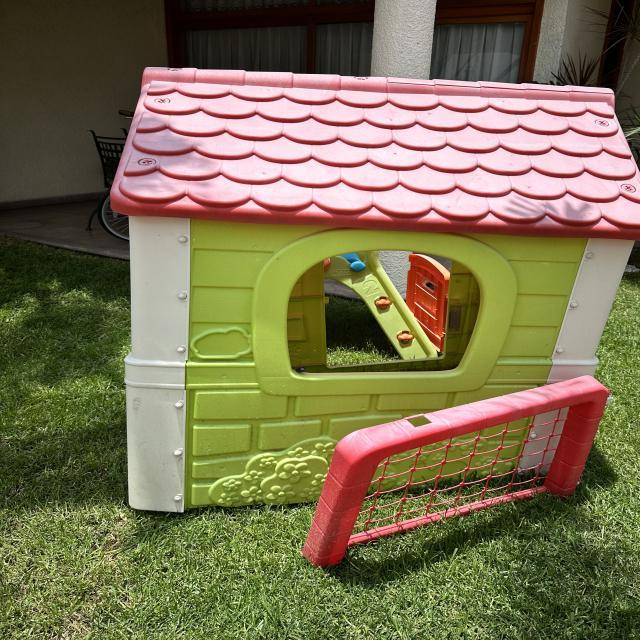hidden camera: (299, 367, 306, 372)
